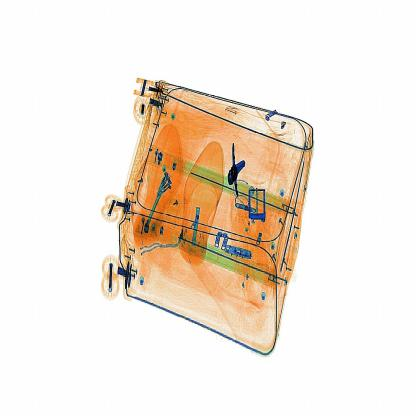wrench: (221, 139, 253, 206)
